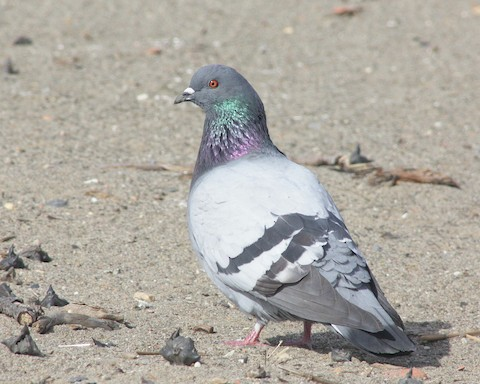pigeon: (168, 59, 431, 362)
